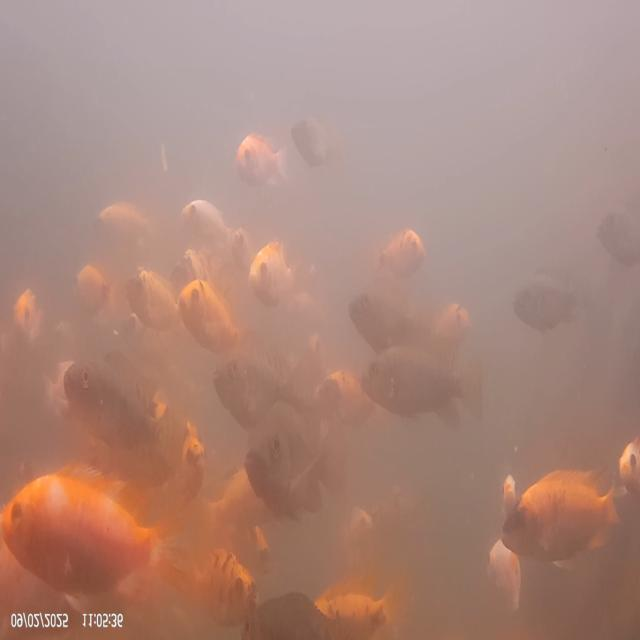ikan: (14, 471, 159, 587), (504, 434, 621, 571), (366, 334, 482, 438), (53, 330, 160, 432), (498, 278, 595, 364), (214, 338, 303, 423), (227, 129, 290, 199), (296, 114, 348, 192), (378, 220, 439, 276), (185, 282, 227, 324)
